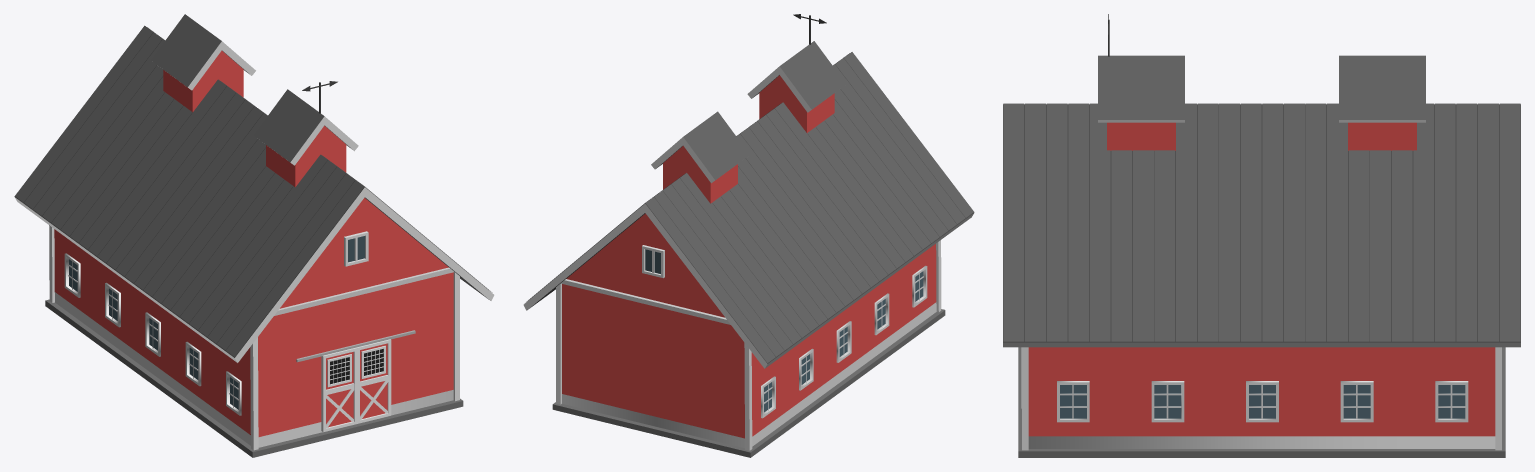
File: hangar_005.glb
3 renders of one model, left to right at view 1: azimuth 30°, elevation 25°; view 2: azimuth 150°, elevation 25°; view 3: azimuth 270°, elevation 25°, orthographic. The views are drawn at different scales.
Visible parts, largest first — view 1: hangar_005; view 2: hangar_005; view 3: hangar_005.
Boxes of the visible parts, left/top/right/bottom form: hangar_005: left=14, top=14, right=494, bottom=457; hangar_005: left=523, top=14, right=974, bottom=457; hangar_005: left=1003, top=14, right=1520, bottom=457.
Bounding box in the file's own units: 11.43 × 13.51 × 16.78.
Materials: 1 (1 with a texture image).
